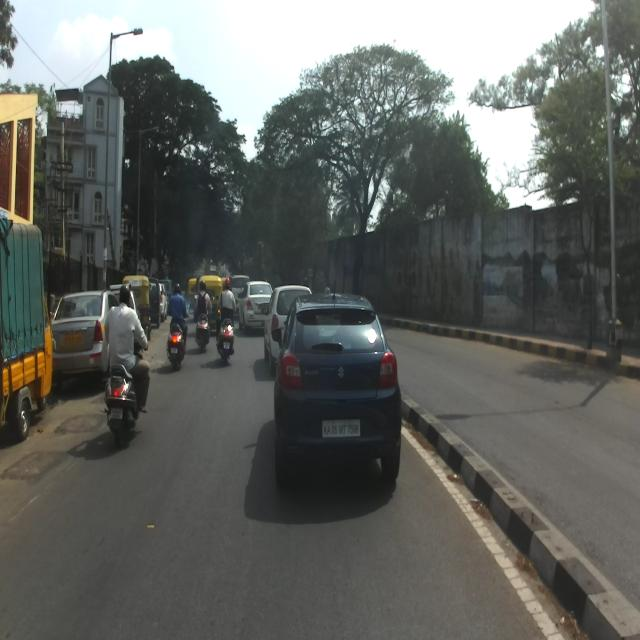auto ahead at: (0, 206, 54, 444)
car ahead at: (274, 293, 407, 498), (56, 289, 107, 373)
motorcycle ahead at: (102, 353, 154, 447)
